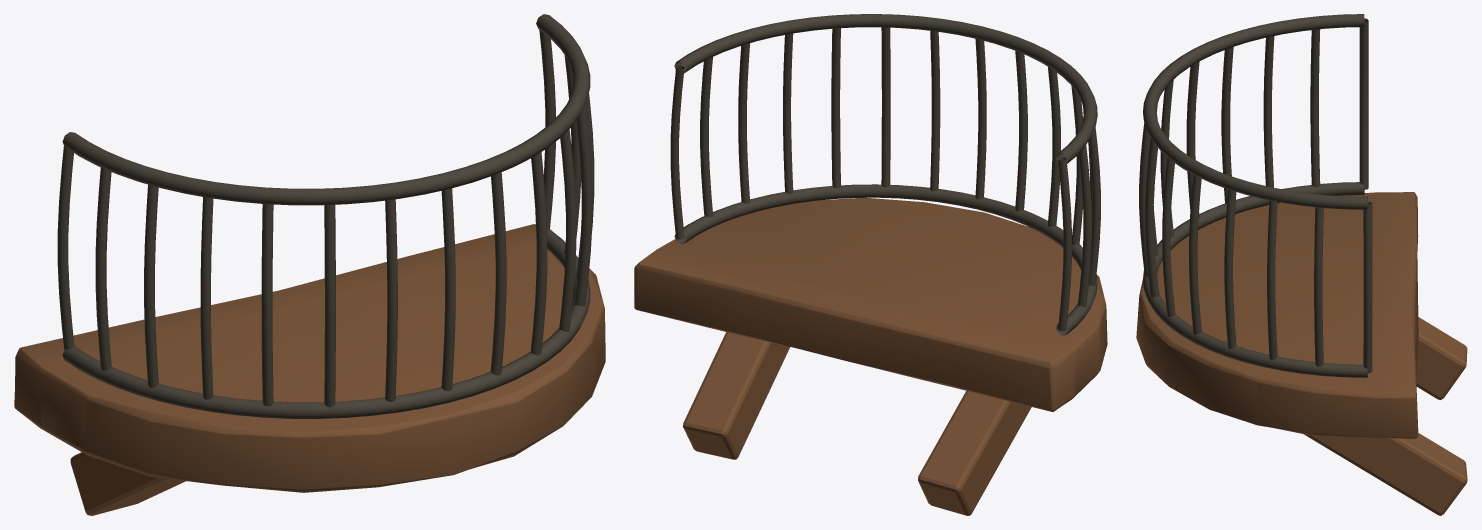
The model's file is balcony.glb.
3 views of the same model, side by side, from view 1: azimuth 30°, elevation 25°; view 2: azimuth 150°, elevation 25°; view 3: azimuth 270°, elevation 25° (orthographic). The views are drawn at different scales.
Parts seen in each view (by area): view 1: 08 Balcony | Oak balcony platform | 001, 08 Balcony | Curved iron rail | 001, 08 Balcony | Curved iron rail | 002, 01 Tower Structure | Canopy bracket | 003, 08 Balcony | Balcony spindle | 014, 08 Balcony | Balcony spindle | 007, 08 Balcony | Balcony spindle | 010, 08 Balcony | Balcony spindle | 011, 08 Balcony | Balcony spindle | 006, 08 Balcony | Balcony spindle | 013, 08 Balcony | Balcony spindle | 015, 08 Balcony | Balcony spindle | 008 (+6 smaller); view 2: 08 Balcony | Oak balcony platform | 001, 01 Tower Structure | Canopy bracket | 004, 01 Tower Structure | Canopy bracket | 003, 08 Balcony | Curved iron rail | 001, 08 Balcony | Curved iron rail | 002, 08 Balcony | Balcony spindle | 001, 08 Balcony | Balcony spindle | 015, 08 Balcony | Balcony spindle | 006, 08 Balcony | Balcony spindle | 005, 08 Balcony | Balcony spindle | 009, 08 Balcony | Balcony spindle | 002, 08 Balcony | Balcony spindle | 003 (+7 smaller); view 3: 08 Balcony | Oak balcony platform | 001, 08 Balcony | Curved iron rail | 001, 01 Tower Structure | Canopy bracket | 004, 08 Balcony | Curved iron rail | 002, 01 Tower Structure | Canopy bracket | 003, 08 Balcony | Balcony spindle | 001, 08 Balcony | Balcony spindle | 015, 08 Balcony | Balcony spindle | 004, 08 Balcony | Balcony spindle | 005, 08 Balcony | Balcony spindle | 002, 08 Balcony | Balcony spindle | 014, 08 Balcony | Balcony spindle | 003 (+7 smaller).
Part boxes in pixels (box(x1,y1,x2,y2)): 08 Balcony | Oak balcony platform | 001: box(14, 224, 605, 492); 08 Balcony | Curved iron rail | 001: box(62, 14, 590, 205); 08 Balcony | Curved iron rail | 002: box(62, 229, 590, 418); 01 Tower Structure | Canopy bracket | 003: box(70, 452, 185, 515); 08 Balcony | Balcony spindle | 014: box(95, 167, 111, 370); 08 Balcony | Balcony spindle | 007: box(490, 172, 506, 375); 08 Balcony | Balcony spindle | 010: box(324, 204, 335, 407); 08 Balcony | Balcony spindle | 011: box(261, 204, 273, 406); 08 Balcony | Balcony spindle | 006: box(530, 152, 547, 355); 08 Balcony | Balcony spindle | 013: box(144, 184, 158, 387); 08 Balcony | Balcony spindle | 015: box(57, 146, 74, 349); 08 Balcony | Balcony spindle | 008: box(441, 188, 455, 391); 08 Balcony | Oak balcony platform | 001: box(634, 197, 1107, 411); 01 Tower Structure | Canopy bracket | 004: box(683, 332, 789, 459); 01 Tower Structure | Canopy bracket | 003: box(918, 390, 1031, 515); 08 Balcony | Curved iron rail | 001: box(674, 14, 1097, 163); 08 Balcony | Curved iron rail | 002: box(674, 184, 1097, 335); 08 Balcony | Balcony spindle | 001: box(670, 65, 684, 239); 08 Balcony | Balcony spindle | 015: box(1058, 157, 1071, 331); 08 Balcony | Balcony spindle | 006: box(881, 27, 890, 187); 08 Balcony | Balcony spindle | 005: box(831, 28, 840, 188); 08 Balcony | Balcony spindle | 009: box(1015, 51, 1027, 211); 08 Balcony | Balcony spindle | 002: box(700, 57, 712, 217); 08 Balcony | Balcony spindle | 003: box(738, 43, 749, 203); 08 Balcony | Oak balcony platform | 001: box(1136, 192, 1418, 438); 08 Balcony | Curved iron rail | 001: box(1143, 14, 1367, 209); 01 Tower Structure | Canopy bracket | 004: box(1304, 433, 1467, 515); 08 Balcony | Curved iron rail | 002: box(1143, 182, 1367, 377); 01 Tower Structure | Canopy bracket | 003: box(1416, 317, 1467, 399); 08 Balcony | Balcony spindle | 001: box(1363, 202, 1372, 373); 08 Balcony | Balcony spindle | 015: box(1359, 18, 1368, 189); 08 Balcony | Balcony spindle | 004: box(1224, 189, 1236, 348); 08 Balcony | Balcony spindle | 005: box(1189, 175, 1201, 334); 08 Balcony | Balcony spindle | 002: box(1314, 207, 1323, 366); 08 Balcony | Balcony spindle | 014: box(1310, 29, 1320, 187); 08 Balcony | Balcony spindle | 003: box(1267, 200, 1277, 359).
Size of the model in its own units: 1.88 by 1.49 by 1.3.
